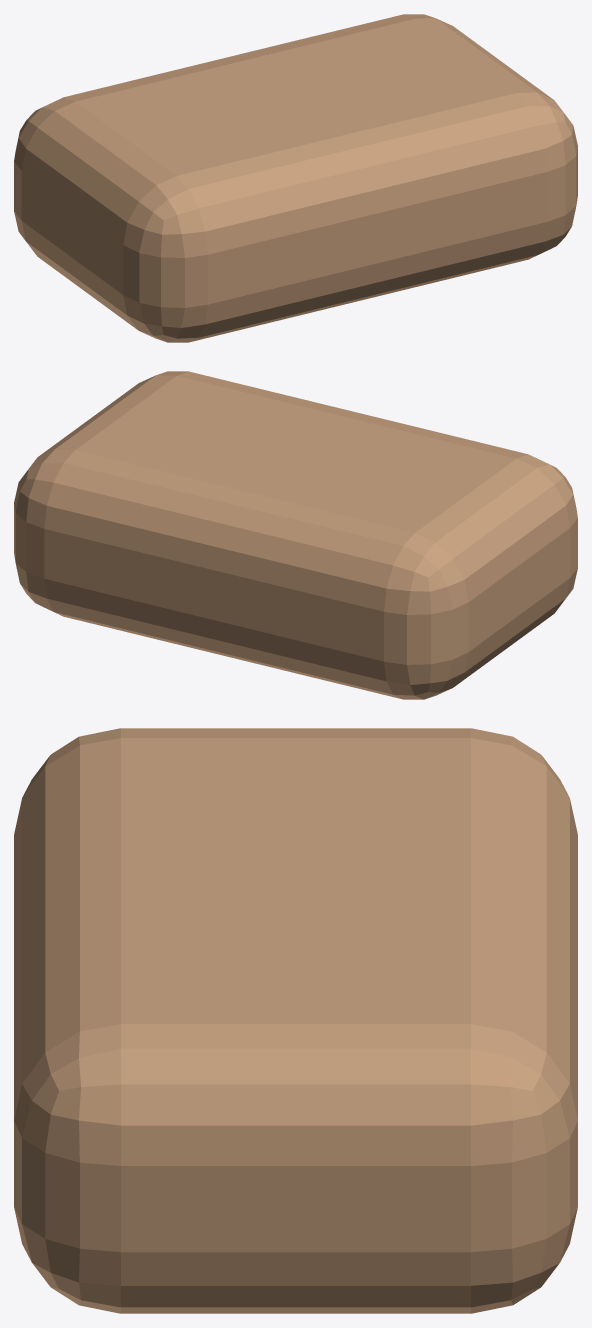
File: patty.glb
3 renders of one model, top to bottom at view 1: azimuth 30°, elevation 25°; view 2: azimuth 150°, elevation 25°; view 3: azimuth 270°, elevation 25°, orthographic. The views are drawn at different scales.
Visible parts, largest first — view 1: Patty; view 2: Patty; view 3: Patty.
Part boxes in pixels (x1,y1,x2,y2): Patty: [14, 14, 577, 342]; Patty: [14, 371, 577, 699]; Patty: [14, 728, 577, 1313].
Bounding box in the file's own units: 1.5 × 0.52 × 0.95.
